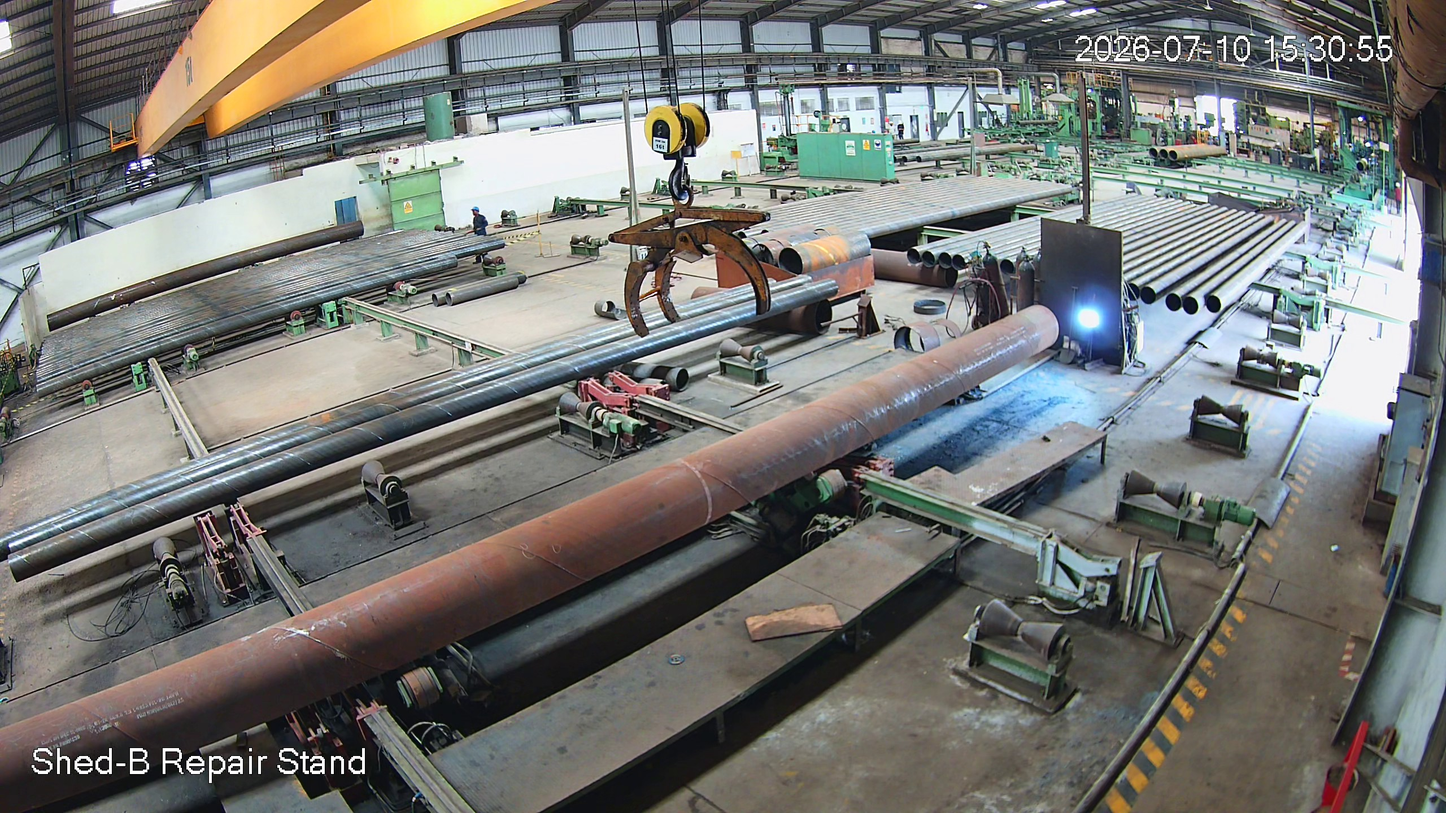Helmet: (468, 205, 481, 219)
Person: (470, 206, 493, 243)
